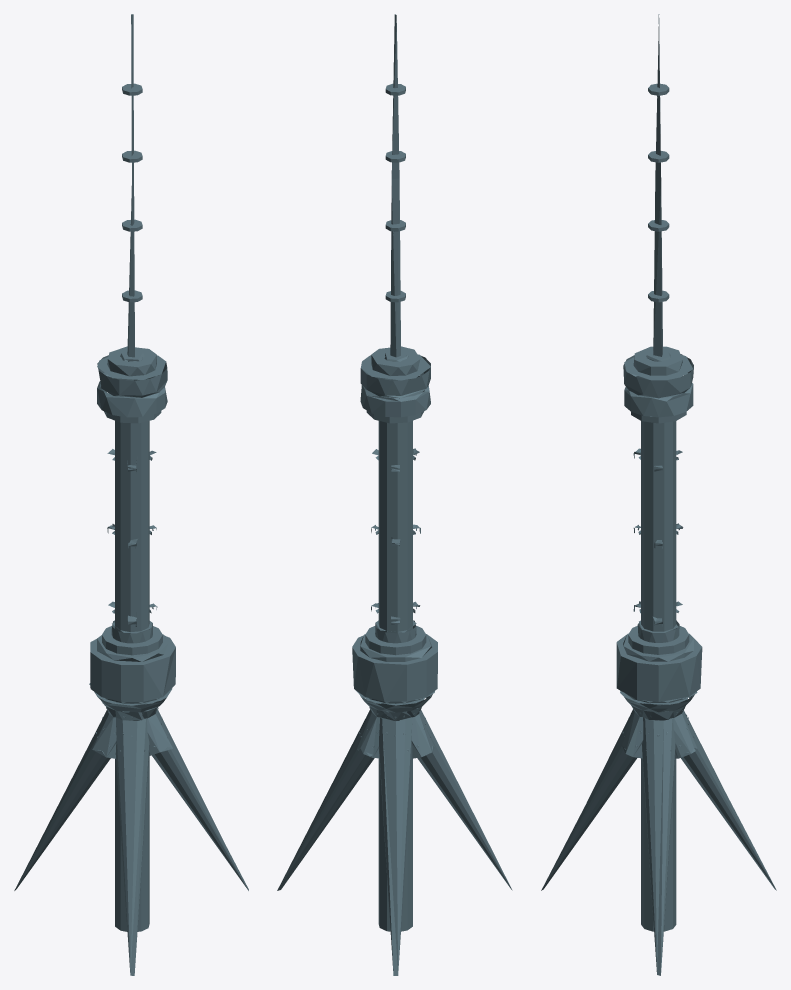
File: tv-tower-far.glb
3 renders of one model, left to right at view 1: azimuth 30°, elevation 25°; view 2: azimuth 150°, elevation 25°; view 3: azimuth 270°, elevation 25°, orthographic.
Visible parts, largest first — view 1: tvtower_material_0; view 2: tvtower_material_0; view 3: tvtower_material_0.
Part boxes in pixels (x1=…): tvtower_material_0: x1=14, y1=14, x2=248, y2=975; tvtower_material_0: x1=277, y1=14, x2=512, y2=975; tvtower_material_0: x1=541, y1=14, x2=776, y2=975.
Bounding box in the file's own units: 219 × 1070 × 252.
